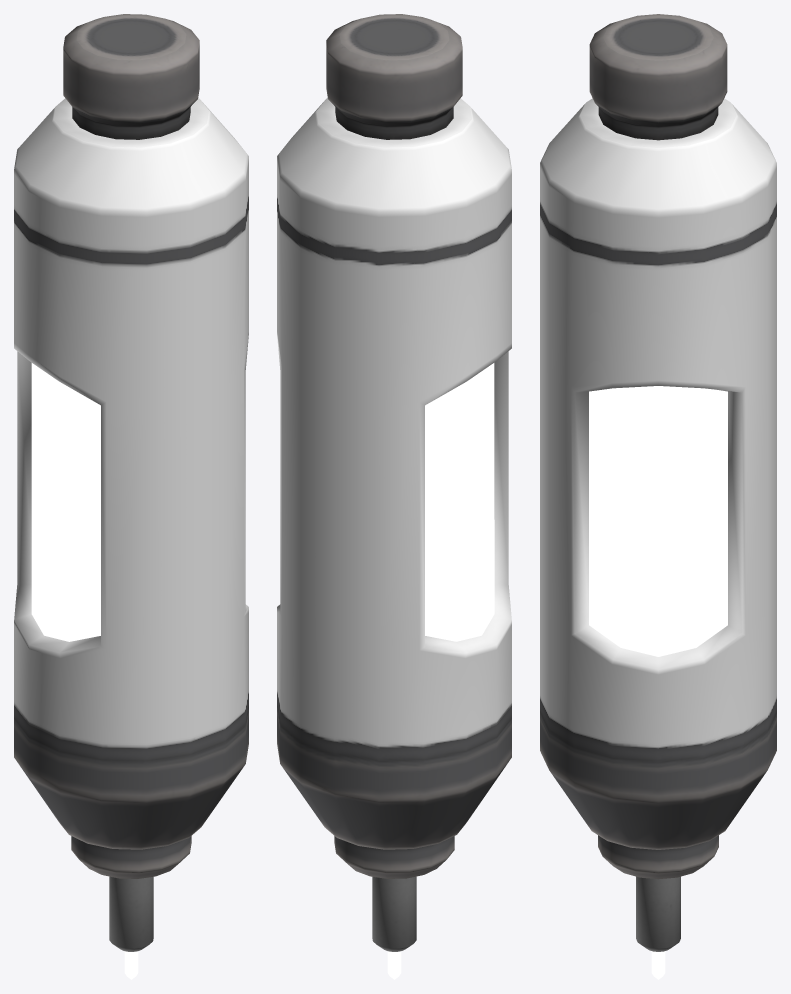
File: SciFiMedPack01_4.FBX
The picture shows the model from 3 angles, left to right: view 1: azimuth 30°, elevation 25°; view 2: azimuth 150°, elevation 25°; view 3: azimuth 270°, elevation 25°; orthographic projection.
Visible parts, largest first — view 1: SciFiMedPack01_4; view 2: SciFiMedPack01_4; view 3: SciFiMedPack01_4.
Boxes of the visible parts, x1,y1,x2,y2 form: SciFiMedPack01_4: (14,14,248,979); SciFiMedPack01_4: (277,14,511,979); SciFiMedPack01_4: (540,14,776,979).
Size of what is drawn, in the model's own units: 0.0547 by 0.2404 by 0.0547.
